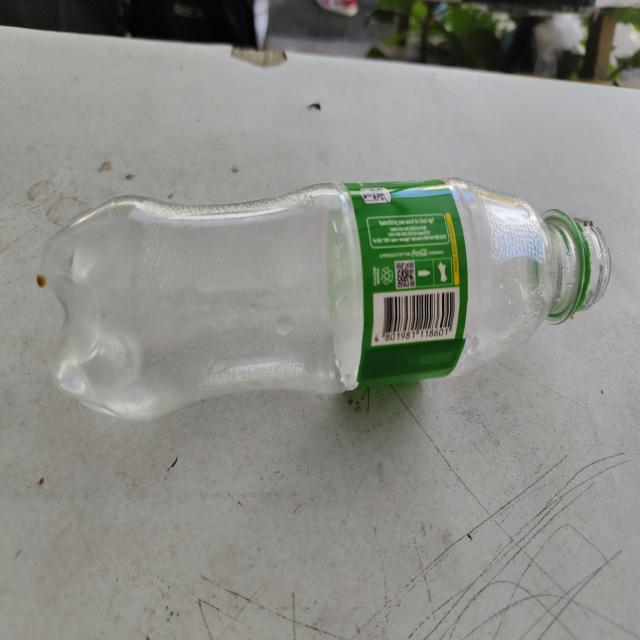Bottle: (34, 179, 613, 425)
